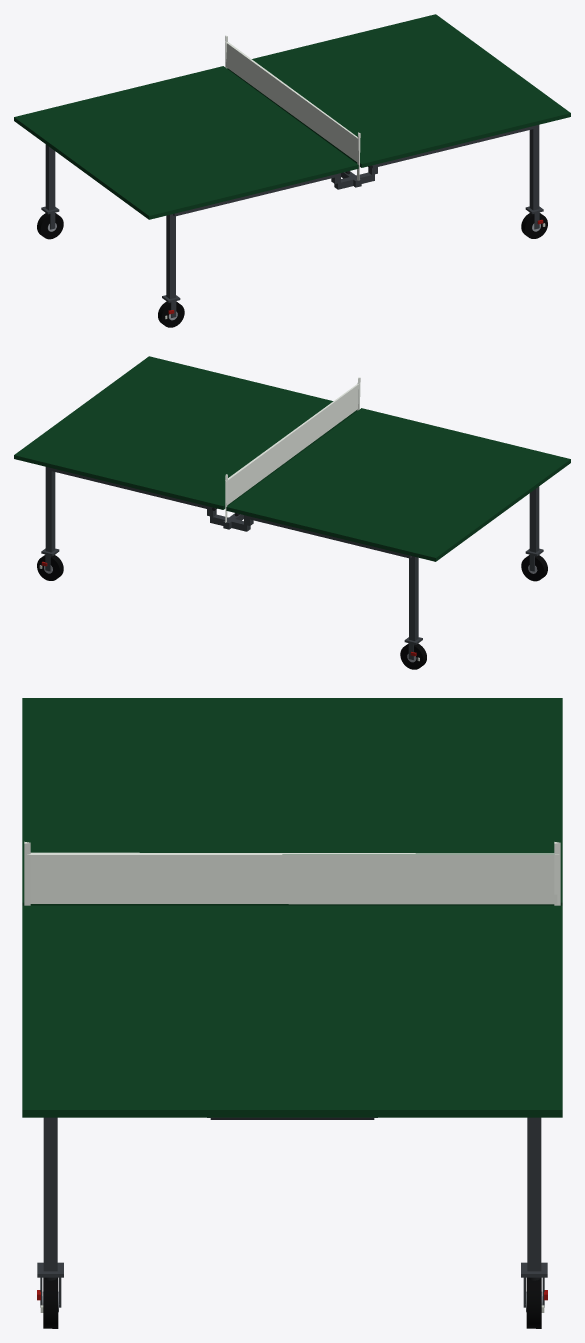
Rendered from pingpong.glb.
3 views of the same model, one above another, from view 1: azimuth 30°, elevation 25°; view 2: azimuth 150°, elevation 25°; view 3: azimuth 270°, elevation 25° (orthographic). The views are drawn at different scales.
Parts seen in each view (by area): view 1: top_left, top_right, chassis, divider; view 2: top_left, top_right, chassis, divider; view 3: top_right, top_left, divider, chassis.
Boxes of the visible parts, box(x1,y1,x2,y2) form: top_left: box(14, 66, 358, 219); top_right: box(227, 14, 570, 167); chassis: box(37, 125, 547, 327); divider: box(225, 35, 360, 180); top_left: box(226, 408, 570, 561); top_right: box(14, 356, 357, 509); chassis: box(37, 467, 547, 669); divider: box(225, 377, 360, 522); top_right: box(22, 905, 562, 1119); top_left: box(22, 698, 562, 905); divider: box(24, 841, 560, 905); chassis: box(37, 1117, 547, 1328).
Bounding box in the file's own units: 2.74 × 0.95 × 1.52.
